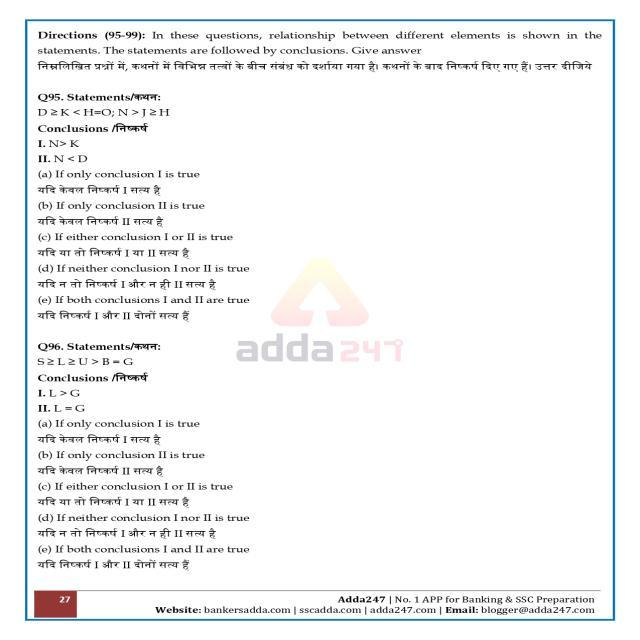Answer_Block: (29, 170, 618, 332), (29, 422, 618, 578)
Instruction: (29, 23, 618, 83)
Question_Answer_Block: (29, 84, 618, 333), (29, 338, 618, 578)
Question_Block: (29, 84, 618, 168), (29, 338, 618, 420)
Question_Paper_Area: (29, 22, 618, 586)
